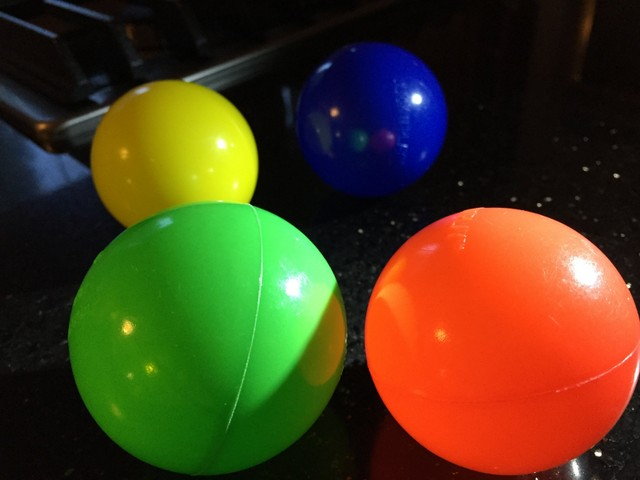ball: (299, 42, 448, 200)
